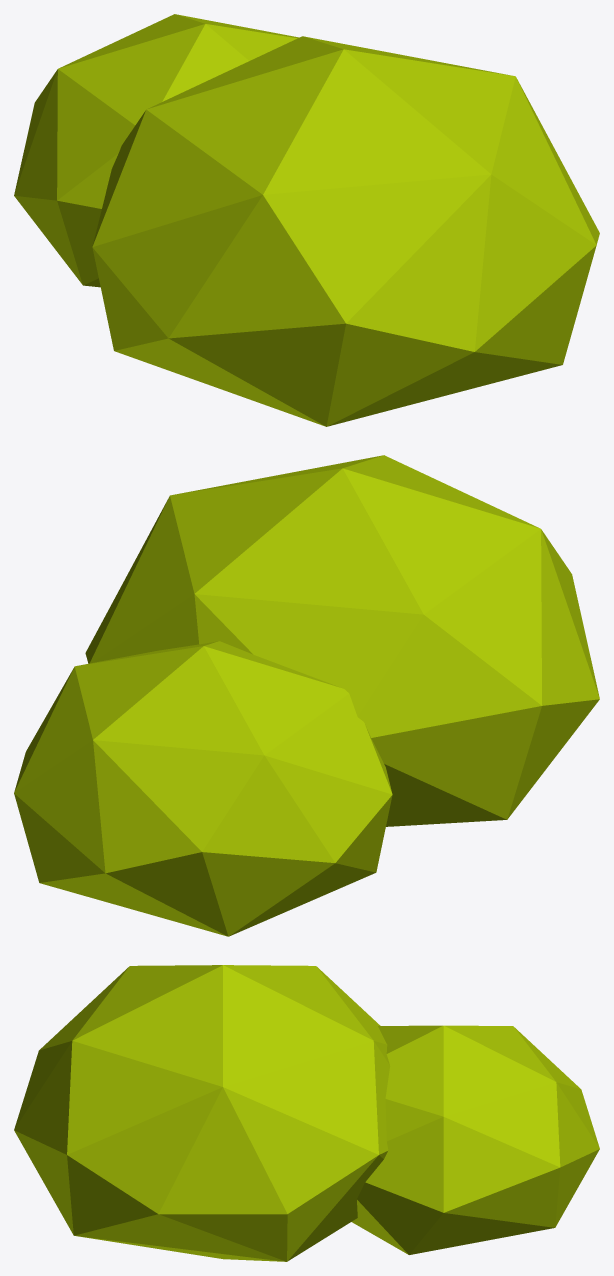
The model's file is Duo_Bush_001.fbx.
The picture shows the model from 3 angles, top to bottom: view 1: azimuth 30°, elevation 25°; view 2: azimuth 150°, elevation 25°; view 3: azimuth 270°, elevation 25°; orthographic projection. The views are drawn at different scales.
Parts seen in each view (by area): view 1: Duo Bush.001; view 2: Duo Bush.001; view 3: Duo Bush.001.
Part boxes in pixels (box(x1,y1,x2,y2)): Duo Bush.001: box(14, 14, 599, 426); Duo Bush.001: box(14, 455, 599, 936); Duo Bush.001: box(14, 965, 599, 1261).
Bounding box in the file's own units: 139 × 93.68 × 201.
